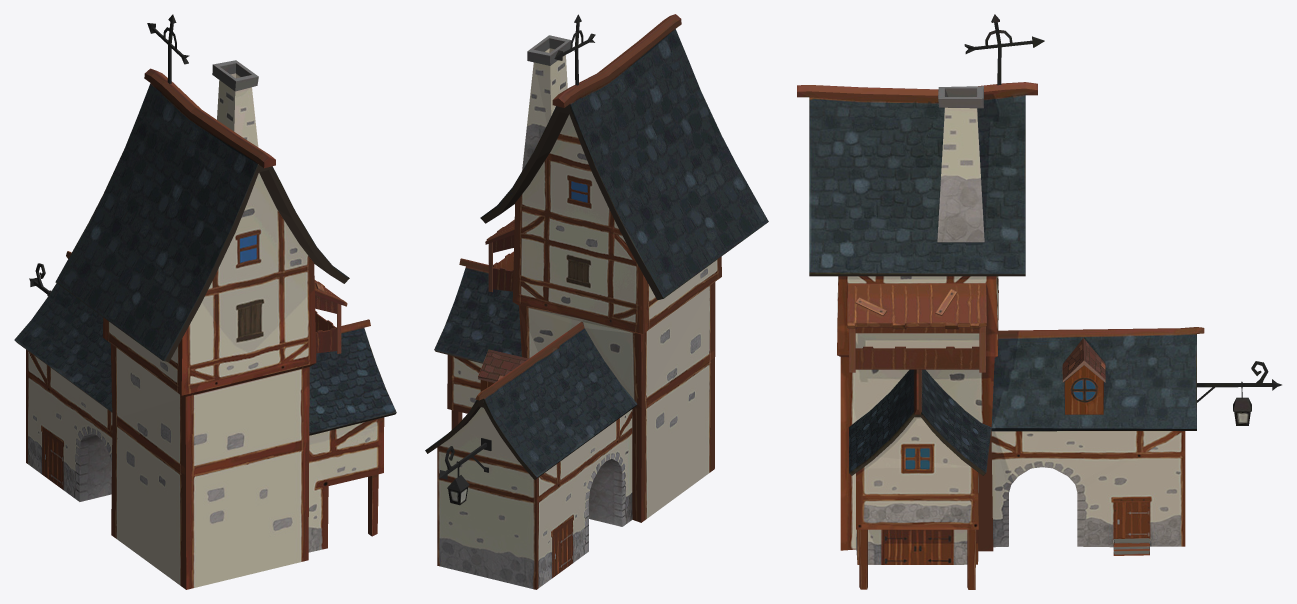
3 renders of one model, left to right at view 1: azimuth 30°, elevation 25°; view 2: azimuth 150°, elevation 25°; view 3: azimuth 270°, elevation 25°, orthographic. The views are drawn at different scales.
Parts seen in each view (by area): view 1: Object_2; view 2: Object_2; view 3: Object_2.
Part boxes in pixels (left/top/right/bottom): Object_2: left=14, top=14, right=396, bottom=589; Object_2: left=425, top=14, right=768, bottom=589; Object_2: left=797, top=14, right=1281, bottom=589.
Size of the model in its own units: 0.7225 by 1.34 by 1.16.
1 material, 1 textured.
